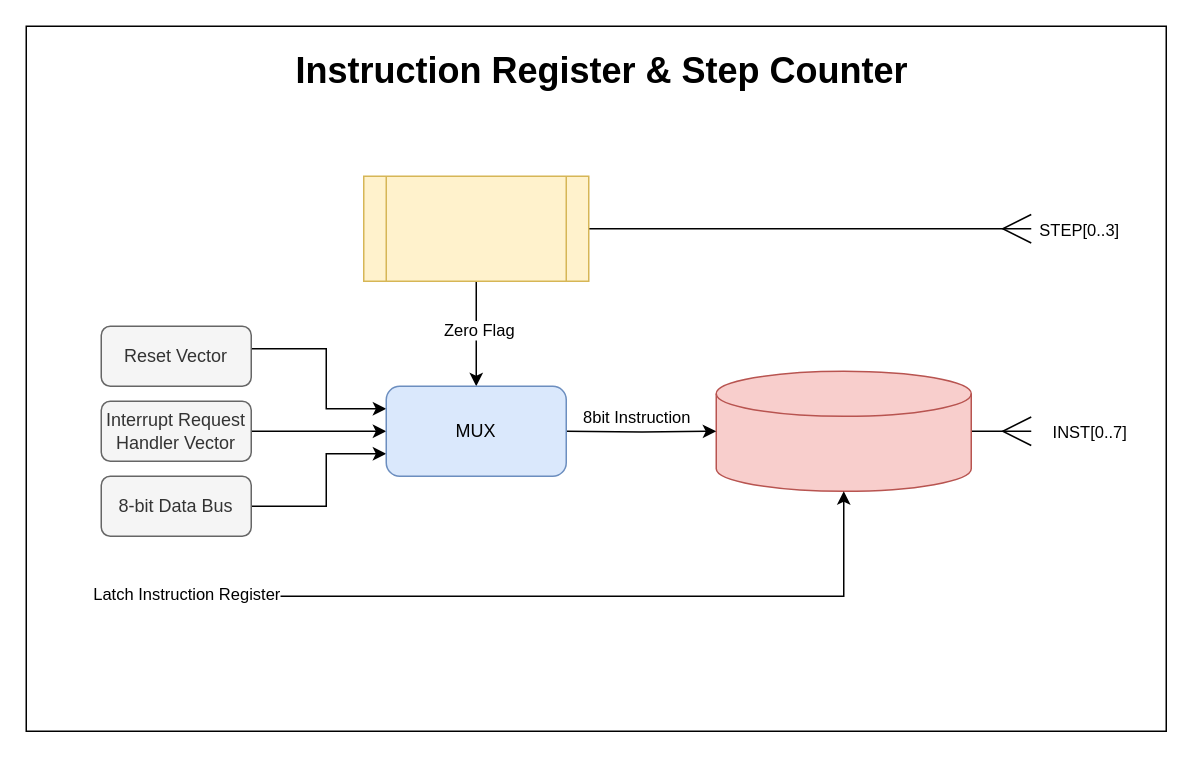
The diagram is 1193 pixels wide and 758 high, and some of its shapes have lost their labels. Each missing label, with the centre of its shape:
"INSTRUCTION REGISTER" goes at point (843, 430).
"STEP COUNTER" goes at point (475, 228).
